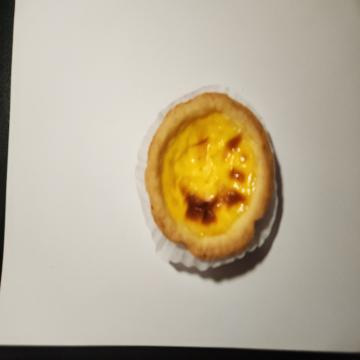EggTart: (145, 92, 274, 264)
